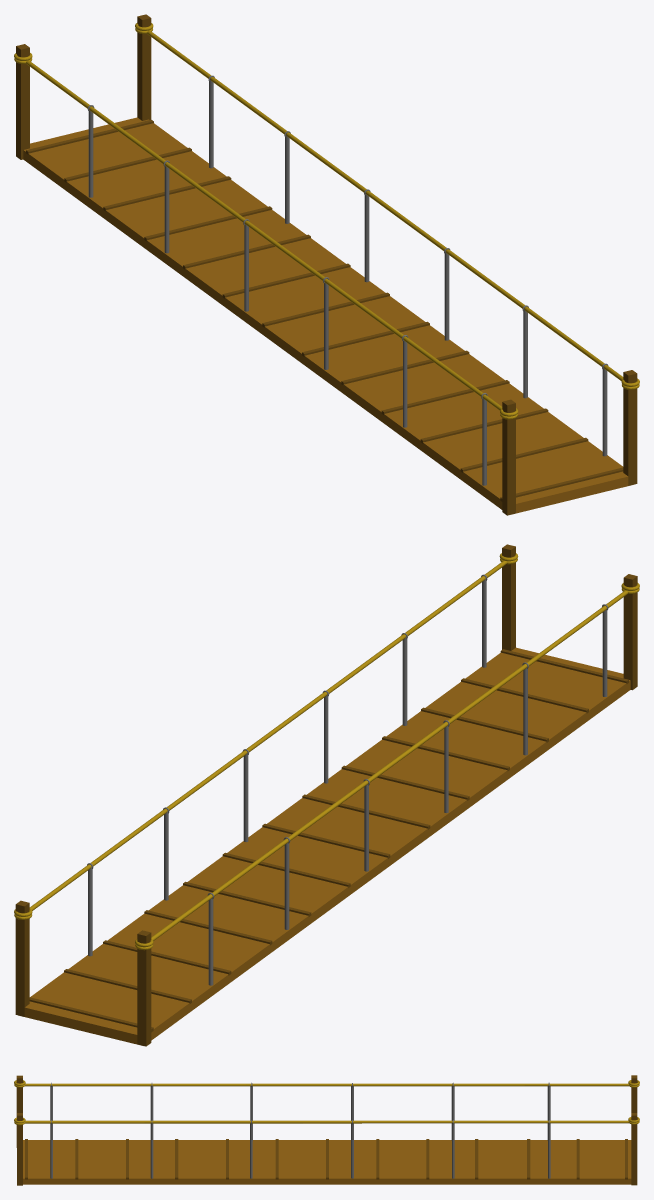
File: easybridge.fbx
The picture shows the model from 3 angles, top to bottom: view 1: azimuth 30°, elevation 25°; view 2: azimuth 150°, elevation 25°; view 3: azimuth 270°, elevation 25°; orthographic projection. The views are drawn at different scales.
Visible parts, largest first — view 1: Cube, Cylinder.001, Cylinder, Cube.002, Cube.001, Cube.003, Cube.004; view 2: Cube, Cylinder.001, Cylinder, Cube.004, Cube.003, Cube.001, Cube.002; view 3: Cube, Cylinder, Cylinder.001, Cube.003, Cube.002, Cube.001, Cube.004, Cylinder.011.
Part boxes in pixels (x1,y1,x2,y2): Cube: [23, 117, 629, 513]; Cylinder.001: [26, 60, 502, 410]; Cylinder: [147, 30, 623, 380]; Cube.002: [623, 370, 637, 485]; Cube.001: [502, 399, 515, 515]; Cube.003: [137, 14, 151, 120]; Cube.004: [16, 44, 29, 159]; Cube: [18, 647, 630, 1045]; Cylinder.001: [151, 590, 627, 940]; Cylinder: [29, 560, 506, 910]; Cube.004: [137, 930, 151, 1046]; Cube.003: [15, 900, 29, 1016]; Cube.001: [623, 574, 637, 690]; Cube.002: [502, 544, 515, 650]; Cube: [23, 1140, 631, 1184]; Cylinder: [25, 1120, 628, 1123]; Cylinder.001: [25, 1083, 628, 1086]; Cube.003: [631, 1113, 637, 1185]; Cube.002: [17, 1113, 22, 1185]; Cube.001: [16, 1075, 22, 1147]; Cube.004: [631, 1075, 637, 1112]; Cylinder.011: [150, 1123, 153, 1178].
Bounding box in the file's own units: 402 × 308 × 2501.
